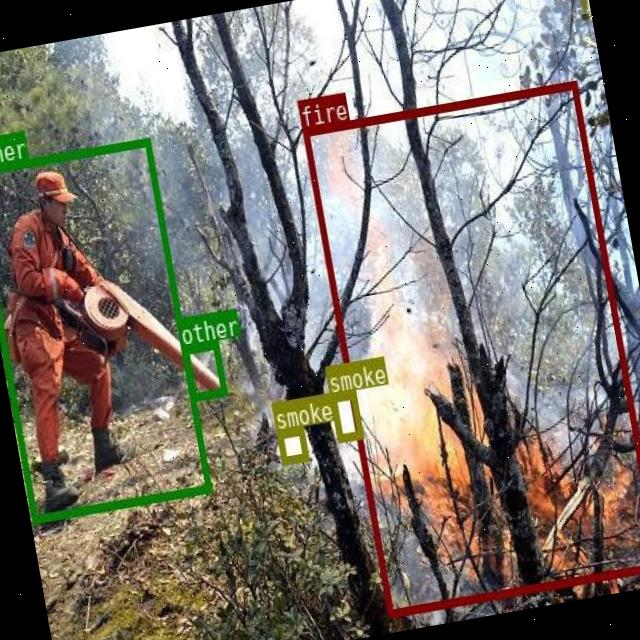fire: (301, 79, 640, 616)
smoke: (328, 389, 363, 441), (275, 425, 307, 463)
